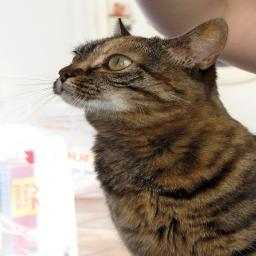catnose: (58, 66, 85, 84)
